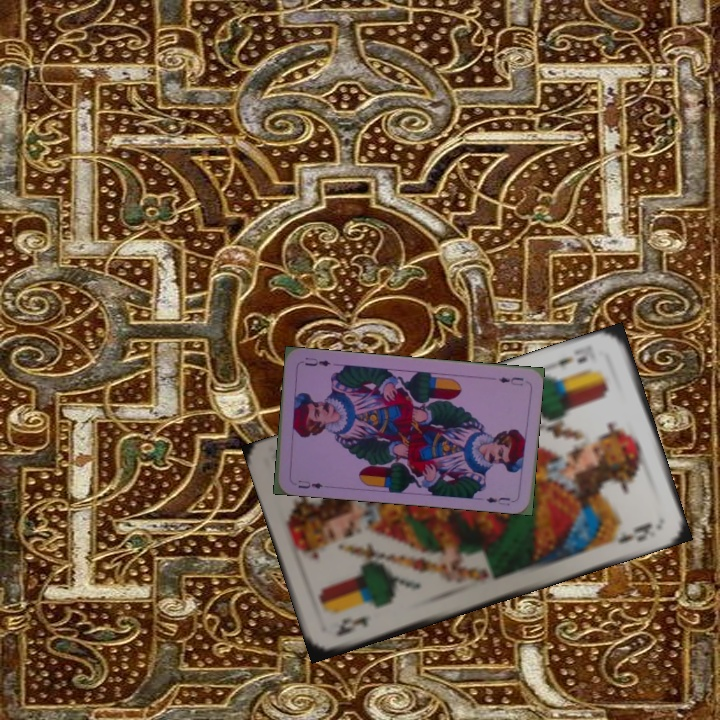EK: (331, 611, 373, 639), (546, 352, 590, 372)
EU: (494, 373, 526, 388), (294, 476, 325, 491)
